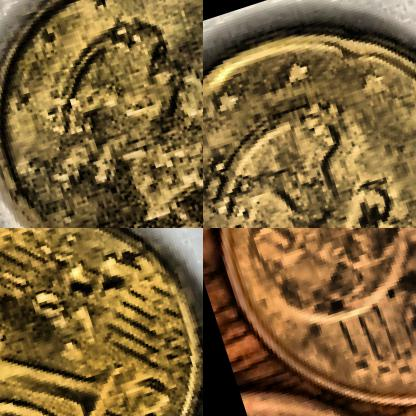coin: (203, 0, 415, 227), (0, 0, 202, 227), (203, 228, 415, 415), (0, 228, 202, 415)
